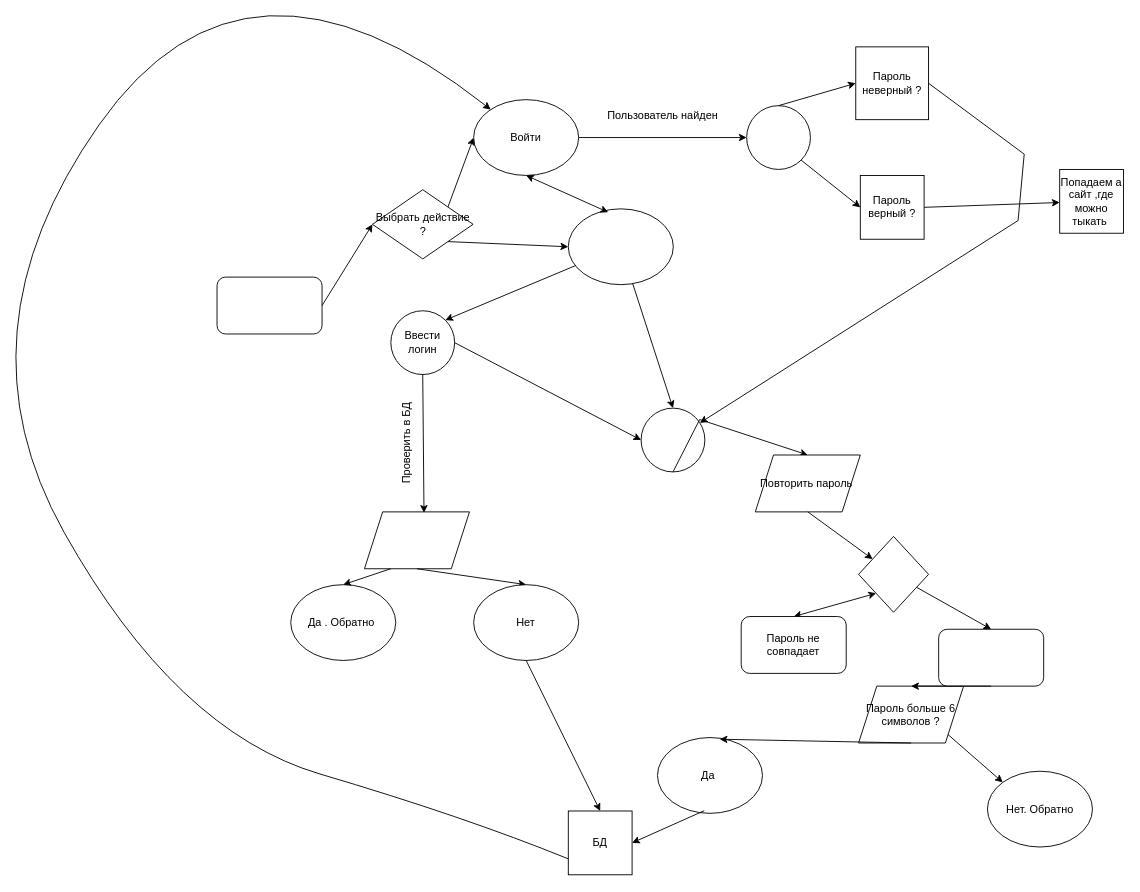
Image size: 1140x892. Some labels were removed from this diagram. Each missing label, with the centre of its shape:
"User" belongs at pixel 269 305.
"Ввести пароль" belongs at pixel 672 439.
"Зарегистироваться" belongs at pixel 620 246.
"Логин занят ?" belongs at pixel 416 540.
"Пароль совпадает" belongs at pixel 991 657.
"Пароль совпадает ?" belongs at pixel 893 574.
"Проверить пароль в бд" belongs at pixel 778 137.
